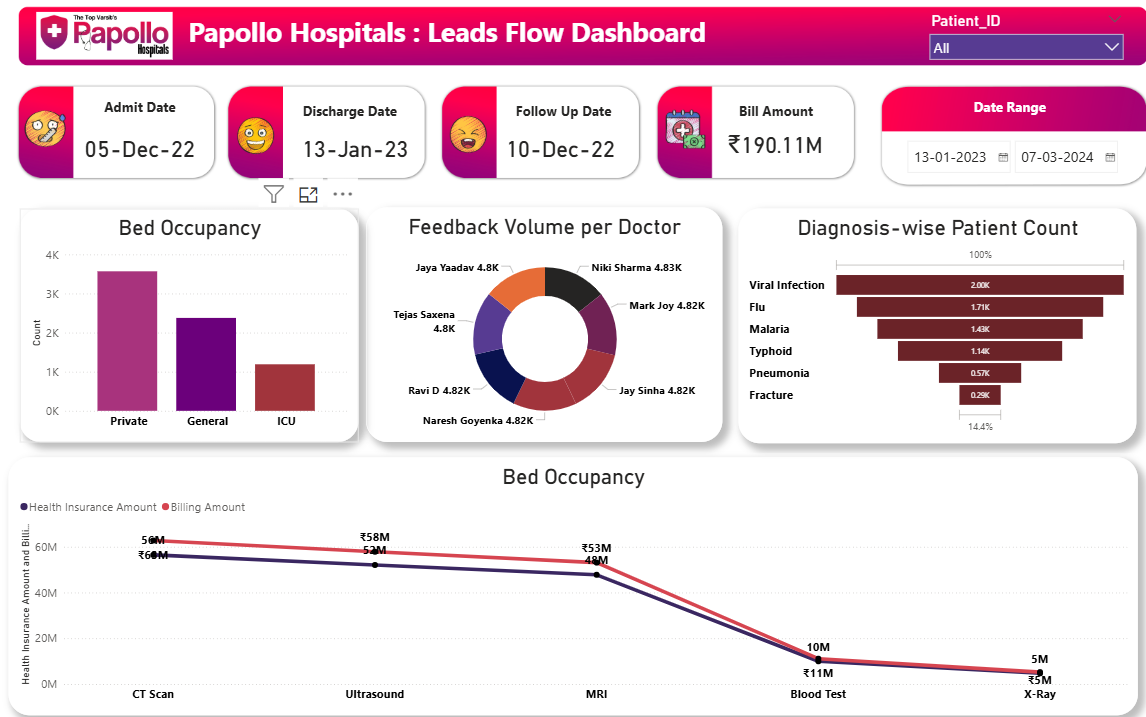

The dashboard page shown, as its layout file describes it:
{"tool":"powerbi","page":{"name":"Page 1","canvas":[1680,1050],"ordinal":0},"visuals":[{"type":"textbox","box":[280,27.1,755.7,74.3],"z":0},{"type":"image","box":[2636.7,100,623.3,150],"z":1000},{"type":"slicer","fields":{"Values":["Sheet1.Patient_ID"]},"box":[2400,373.3,793.3,420],"z":2000},{"type":"card","fields":{"Values":["Sheet1.Admit_Date"]},"box":[437.6,198.8,162.9,42.8],"z":3000},{"type":"card","fields":{"Values":["Sheet1.Discharge_Date"]},"box":[129.8,198.8,172.6,42.8],"z":4000},{"type":"card","fields":{"Values":["Sheet1.Followup Date"]},"box":[724.3,198.6,167.1,42.9],"z":5000},{"type":"textbox","box":[152.9,145.7,127.1,57.1],"z":6000},{"type":"textbox","box":[437.1,151.4,151.4,37.1],"z":7000},{"type":"textbox","box":[732.9,151.4,158.6,37.1],"z":8000},{"type":"textbox","box":[1035.7,151.4,151.4,37.1],"z":9000},{"type":"card","fields":{"Values":["Sheet1.Billing Amount"]},"box":[1031.4,194.3,158.6,42.9],"z":10000},{"type":"image","box":[50,157.1,68.6,74.3],"z":11000},{"type":"image","box":[348.6,172.9,62.9,62.9],"z":12000},{"type":"image","box":[640,171.4,77.1,62.9],"z":13000},{"type":"image","box":[951.4,158.6,65.7,71.4],"z":14000},{"type":"columnChart","title":"Bed Occupancy","fields":{"Category":["Sheet1.Bed_Occupancy"],"Y":["Sheet1.Bed_Occupancy"]},"box":[47.1,305.7,477.1,328.6],"z":15000},{"type":"donutChart","title":"Feedback Volume per Doctor","fields":{"Category":["Sheet1.Doctor"],"Y":["Sheet1.Feedback"]},"box":[534.9,304.4,501.4,330.8],"z":16000},{"type":"funnel","title":"Diagnosis-wise Patient Count","fields":{"Category":["Sheet1.Diagnosis"],"Y":["Sheet1.Diagnosis"]},"box":[1060,305.7,560,330],"z":17000},{"type":"image","box":[30,24.3,274.3,77.1],"z":18000},{"type":"lineChart","title":"Bed Occupancy","fields":{"Y":["Sheet1.Health Insurance Amount","Sheet1.Billing Amount"],"Category":["Sheet1.Test"]},"box":[31.1,656.3,1589.5,363.3],"z":19000},{"type":"slicer","fields":{"Values":["Sheet1.Admit_Date"]},"box":[1284.3,201.2,360.6,68.9],"z":20000},{"type":"slicer","fields":{"Values":["Sheet1.Patient_ID"]},"box":[1317.1,24.3,292.9,82.9],"z":21000},{"type":"textbox","box":[1365.7,145.7,151.4,37.1],"z":22000}]}

Visuals, with their boxes in screenshot pixels (x1, y1, x2, y2), scaled from the page's 1680x1050 canvas onto the 1146x717 screenshot:
textbox: detection(191, 19, 706, 69)
card - Sheet1.Admit_Date: detection(299, 136, 410, 165)
card - Sheet1.Discharge_Date: detection(89, 136, 206, 165)
card - Sheet1.Followup Date: detection(494, 136, 608, 165)
textbox: detection(104, 99, 191, 138)
textbox: detection(298, 103, 401, 129)
textbox: detection(500, 103, 608, 129)
textbox: detection(706, 103, 810, 129)
card - Sheet1.Billing Amount: detection(704, 133, 812, 162)
image: detection(34, 107, 81, 158)
image: detection(238, 118, 281, 161)
image: detection(437, 117, 489, 160)
image: detection(649, 108, 694, 157)
"Bed Occupancy" columnChart: detection(32, 209, 358, 433)
"Feedback Volume per Doctor" donutChart: detection(365, 208, 707, 434)
"Diagnosis-wise Patient Count" funnel: detection(723, 209, 1105, 434)
image: detection(20, 17, 208, 69)
"Bed Occupancy" lineChart: detection(21, 448, 1105, 696)
slicer - Sheet1.Admit_Date: detection(876, 137, 1122, 184)
slicer - Sheet1.Patient_ID: detection(898, 17, 1098, 73)
textbox: detection(932, 99, 1035, 125)
